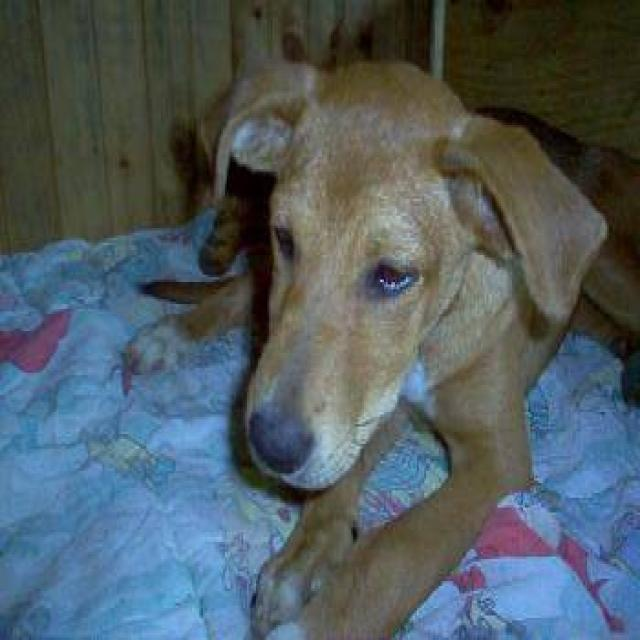dog: (124, 44, 638, 638)
